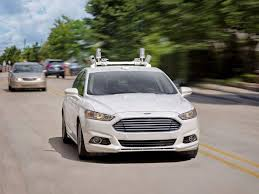car: (60, 48, 200, 160), (7, 61, 48, 93), (43, 58, 68, 78)
